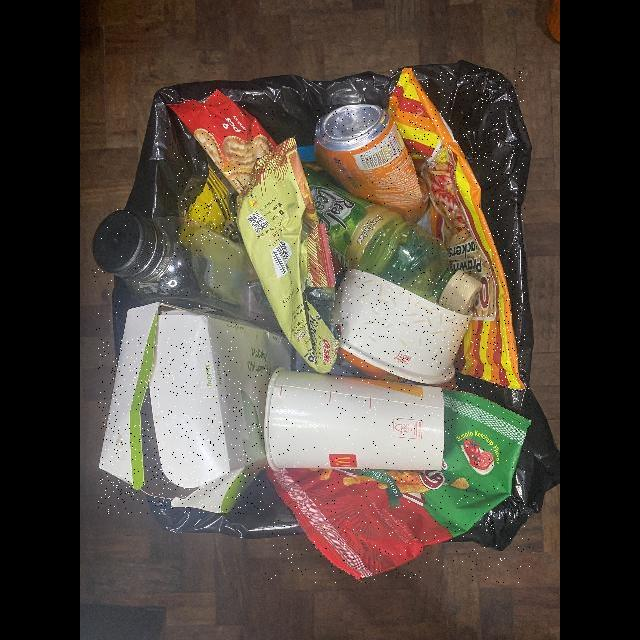metal: (315, 106, 429, 224)
paper: (99, 297, 316, 514), (262, 368, 444, 474), (335, 269, 472, 385)
plastic: (303, 162, 487, 315), (92, 208, 284, 337)
wrapper: (265, 388, 530, 583), (389, 69, 525, 389), (238, 139, 339, 373), (164, 88, 276, 196), (177, 146, 242, 244)
